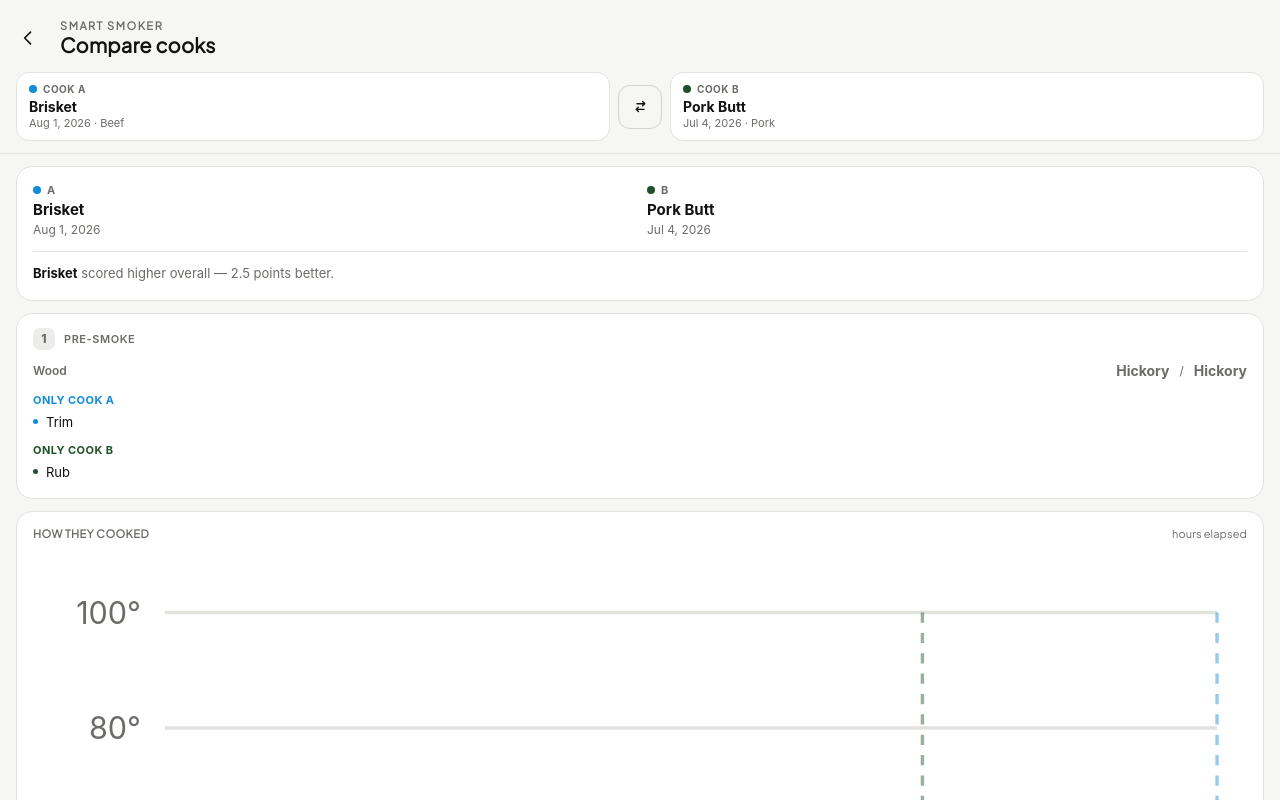
Test: CompareScreen › the swap control exchanges the two cooks
The image size is (1280, 800).
Expected: the element with test id "compare-summary" is shown, x1=16 y1=166 x2=1264 y2=300
What coordinates should you click on to do the following:
click the button named "Swap cooks"
I would click on:
 (640, 106)
Its box is x1=618 y1=84 x2=662 y2=128.
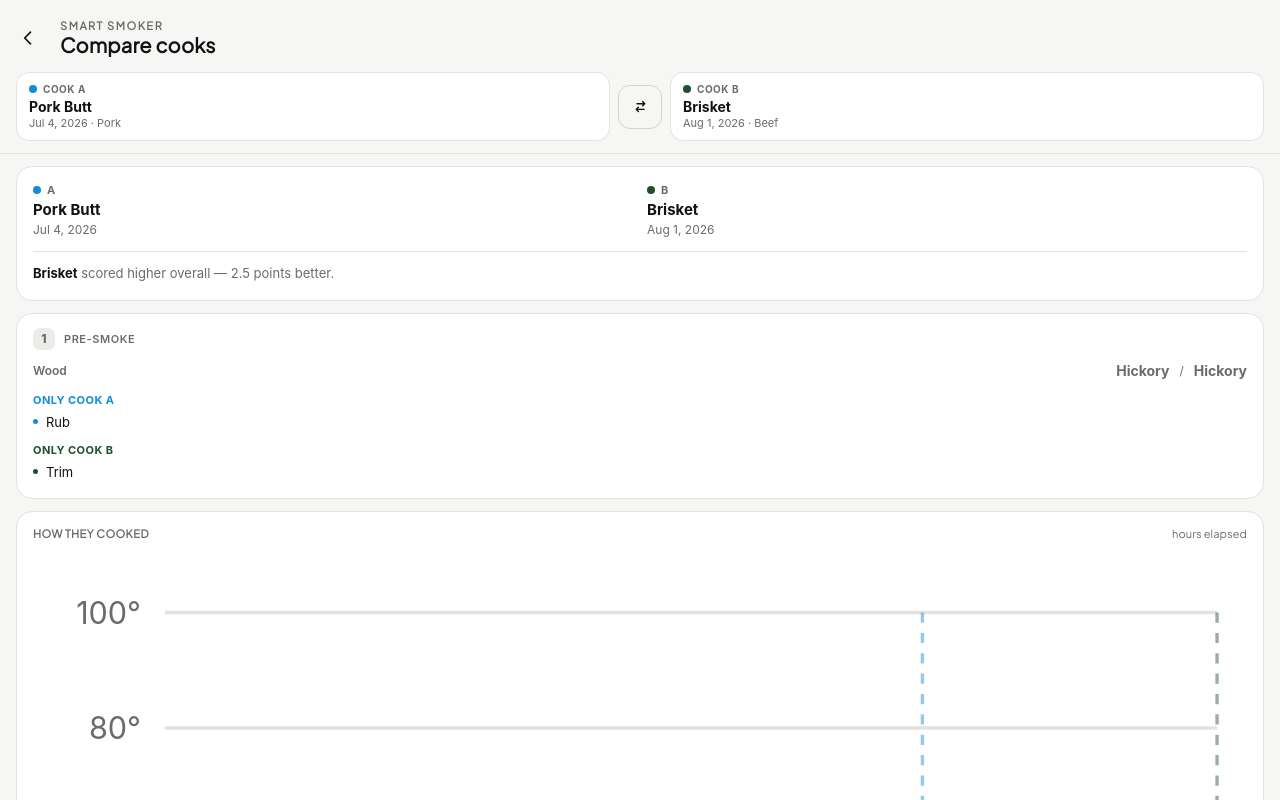
Now the button with test id "compare-slot-a" shows "Pork Butt", box x1=16 y1=72 x2=610 y2=141
Now the button with test id "compare-slot-b" shows "Brisket", box x1=670 y1=72 x2=1264 y2=141
